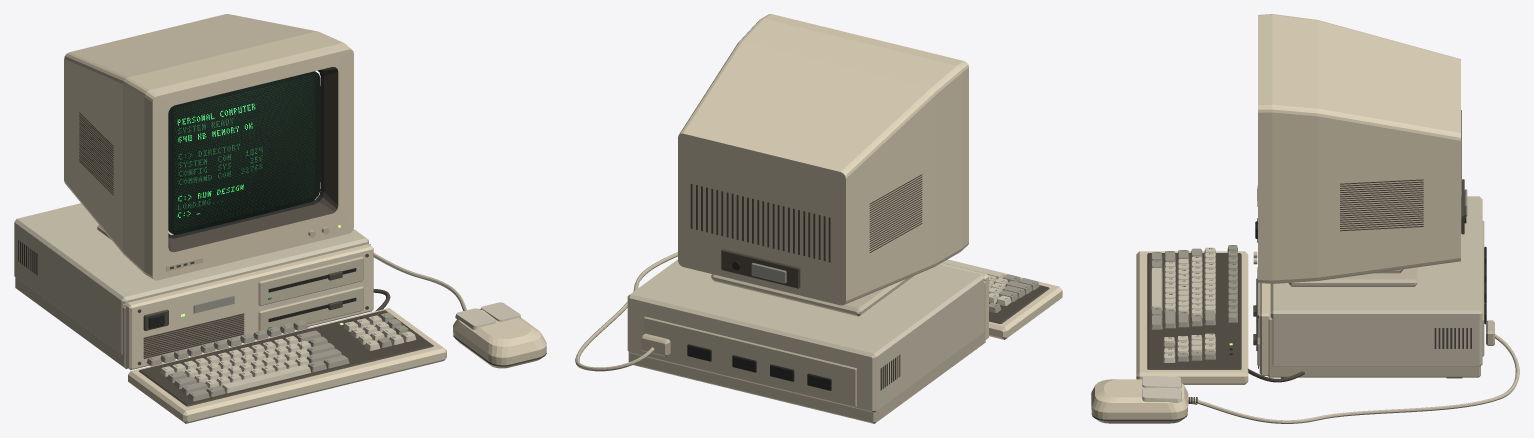
Rendered from retro-computer.glb.
3 views of the same model, side by side, from view 1: azimuth 30°, elevation 25°; view 2: azimuth 150°, elevation 25°; view 3: azimuth 270°, elevation 25° (orthographic). The views are drawn at different scales.
Visible parts, largest first — view 1: Curved CRT glass, CRT tapered back, Desktop metal cover, Cream front bezel, Front bezel, CRT housing front, Keyboard chassis, Floppy drive, Deep brown screen recess, Keyboard key well, Front housing bevel, Mouse cream shell (+11 smaller); view 2: CRT tapered back, Desktop metal cover, CRT back, CRT housing front, Desktop rear I/O plate, Desktop lower chassis, Back vent slots, Front housing bevel, CRT side grille, Monitor foot, Keyboard chassis, Rear connector housing (+5 smaller); view 3: CRT tapered back, Desktop metal cover, CRT housing front, Keyboard key well, Front housing bevel, Keyboard chassis, CRT side grille, Desktop lower chassis, Mouse cream shell, Mouse cable, Monitor foot, Front bezel (+6 smaller).
Boxes of the visible parts, x1,y1,x2,y2 form: Curved CRT glass: (168, 71, 320, 235); CRT tapered back: (64, 14, 317, 253); Desktop metal cover: (14, 203, 368, 354); Cream front bezel: (152, 49, 353, 280); Front bezel: (125, 244, 373, 369); CRT housing front: (123, 31, 343, 273); Keyboard chassis: (128, 308, 446, 423); Floppy drive: (258, 256, 363, 332); Deep brown screen recess: (168, 67, 338, 252); Keyboard key well: (139, 310, 433, 406); Front housing bevel: (144, 43, 351, 279); Mouse cream shell: (453, 308, 546, 365); CRT tapered back: (679, 41, 936, 304); Desktop metal cover: (627, 259, 984, 412); CRT back: (678, 133, 845, 305); CRT housing front: (738, 18, 962, 266); Desktop rear I/O plate: (643, 316, 856, 407); Desktop lower chassis: (628, 281, 985, 423); Back vent slots: (690, 183, 830, 262); Front housing bevel: (761, 14, 968, 250); CRT side grille: (869, 174, 922, 252); Monitor foot: (711, 274, 914, 316); Keyboard chassis: (989, 273, 1062, 339); Rear connector housing: (721, 249, 800, 288); CRT tapered back: (1317, 20, 1460, 280); Desktop metal cover: (1270, 196, 1482, 366); CRT housing front: (1272, 14, 1317, 283); Keyboard key well: (1147, 253, 1241, 369); Front housing bevel: (1258, 14, 1272, 283); Keyboard chassis: (1136, 251, 1248, 384); CRT side grille: (1340, 179, 1423, 231); Desktop lower chassis: (1267, 317, 1480, 377); Mouse cream shell: (1091, 379, 1188, 419); Mouse cable: (1197, 334, 1519, 423); Monitor foot: (1288, 267, 1417, 286); Front bezel: (1259, 283, 1270, 375).
Size of the model in its own units: 4.63 by 3.57 by 5.17.
